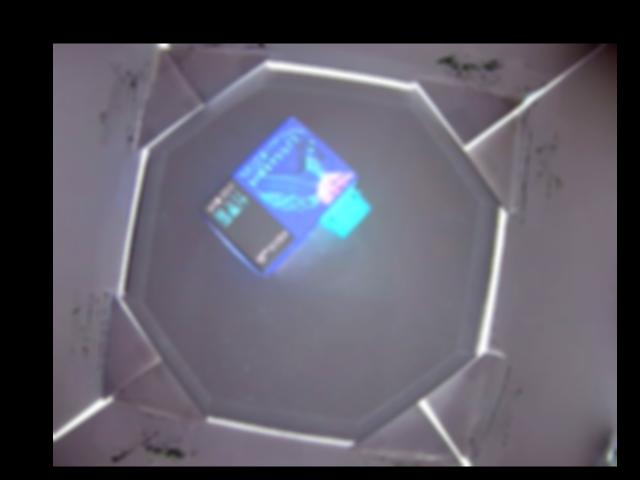Bottle: (201, 119, 373, 283)
